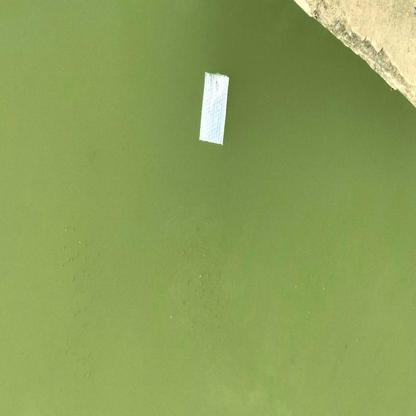foam: (198, 72, 230, 146)
